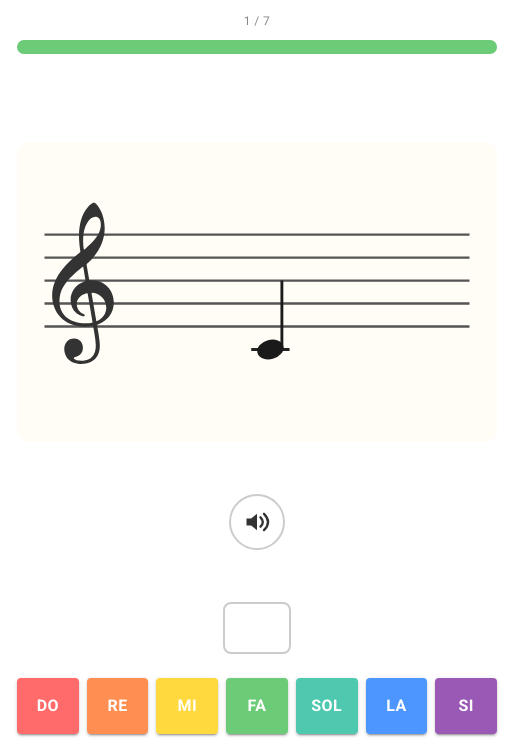
Test: labels both answers and the correct answer using en/solfege
This screenshot has width=515, height=754.
Step 1. Click the button "Do" → coordinates (48, 706), box [17, 678, 79, 734]
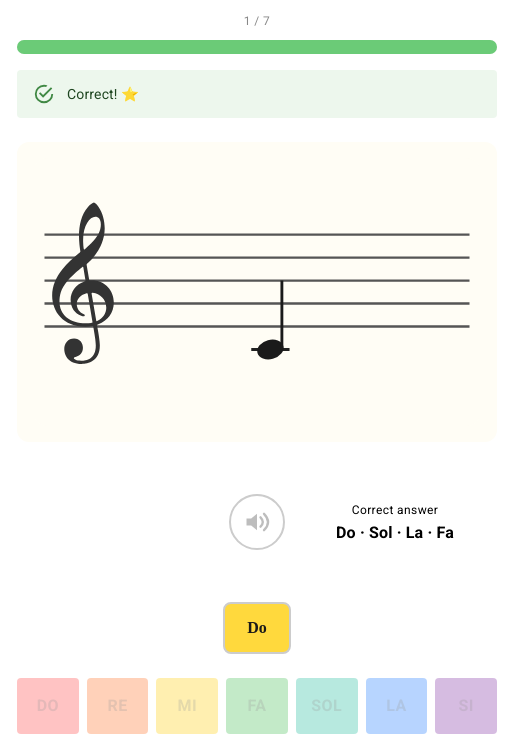
Result: the element "Correct answer" shows "Do" at [336, 522, 454, 541]
Result: the element "Correct answer" shows "La" at [336, 522, 454, 541]
